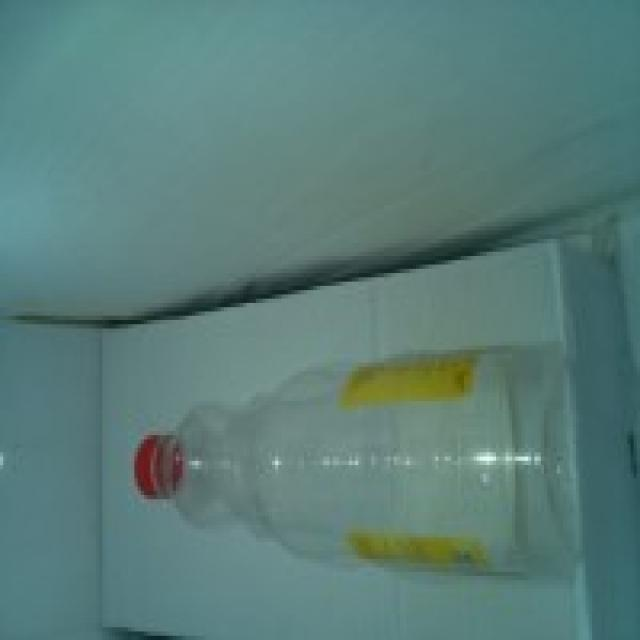plastic bottle: (124, 327, 608, 589)
